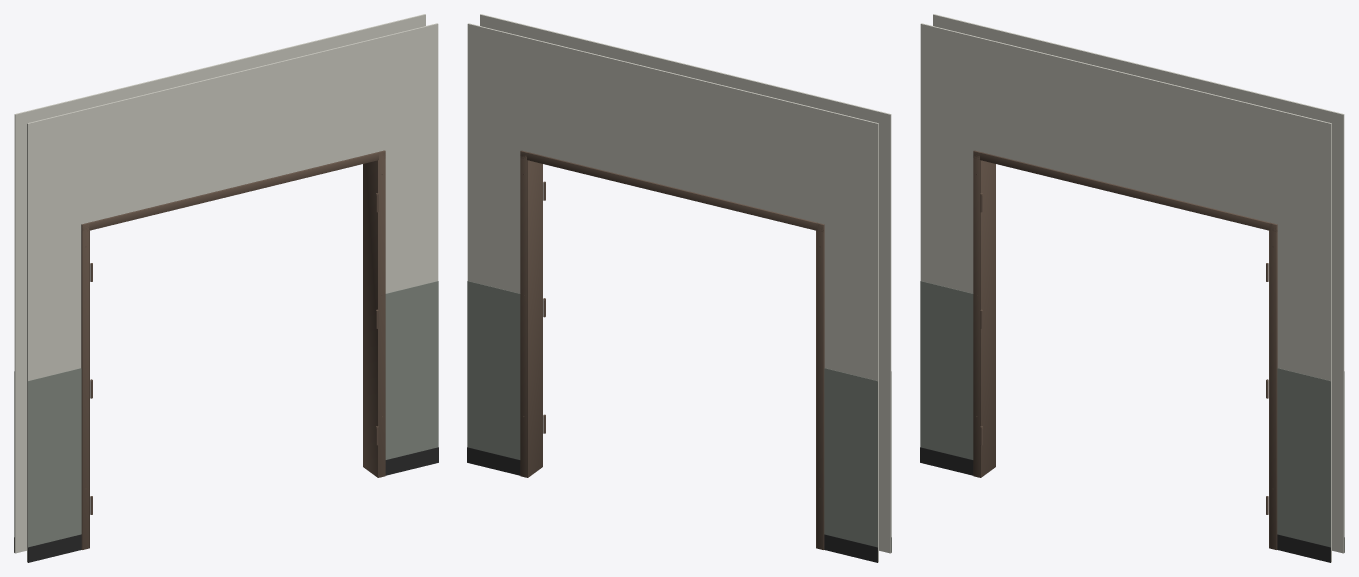
Rendered from Kit_RunCompartmentFrame.fbx.
The picture shows the model from 3 angles, left to right: view 1: azimuth 30°, elevation 25°; view 2: azimuth 150°, elevation 25°; view 3: azimuth 330°, elevation 25°; orthographic projection.
Visible parts, largest first — view 1: Kit_RunCompartmentFrame_LOD0; view 2: Kit_RunCompartmentFrame_LOD0; view 3: Kit_RunCompartmentFrame_LOD0.
Part boxes in pixels (<box>): Kit_RunCompartmentFrame_LOD0: <box>14,14,438,562</box>; Kit_RunCompartmentFrame_LOD0: <box>467,14,891,562</box>; Kit_RunCompartmentFrame_LOD0: <box>920,14,1344,562</box>.
Size of what is drawn, in the model's own units: 2.84 by 2.9 by 0.195.
